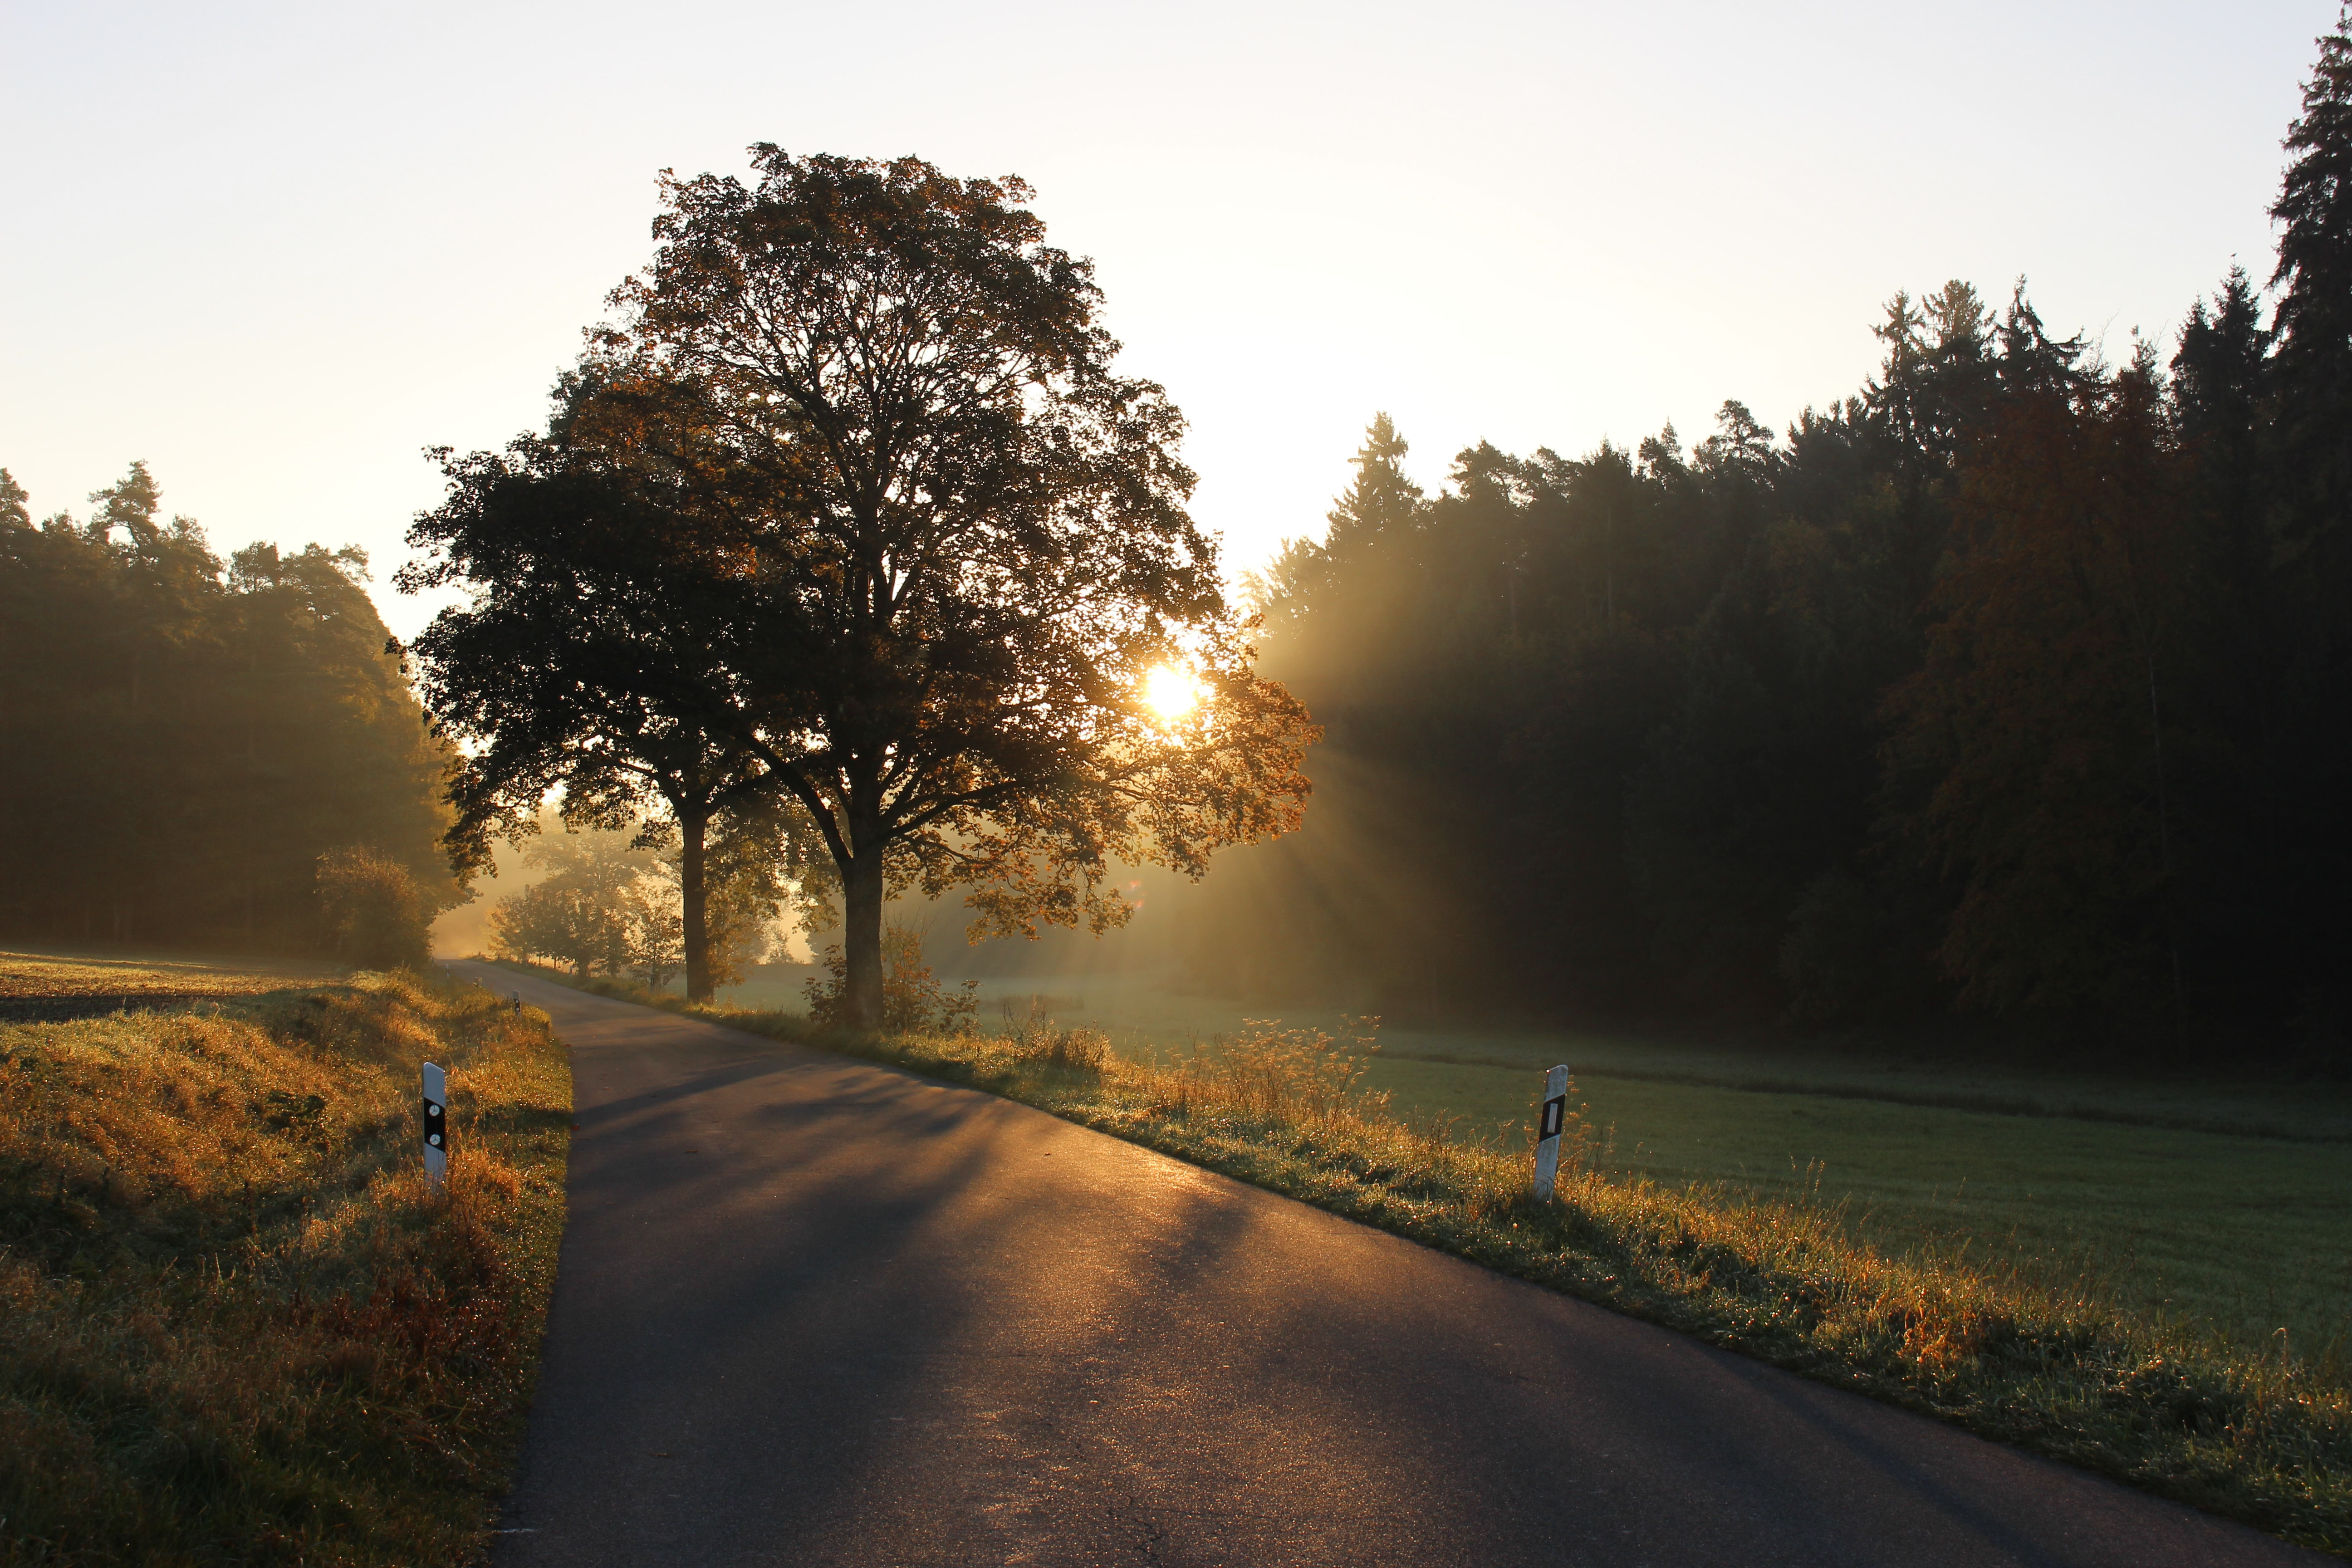tree: (546, 138, 1227, 1034), (380, 364, 826, 999)
